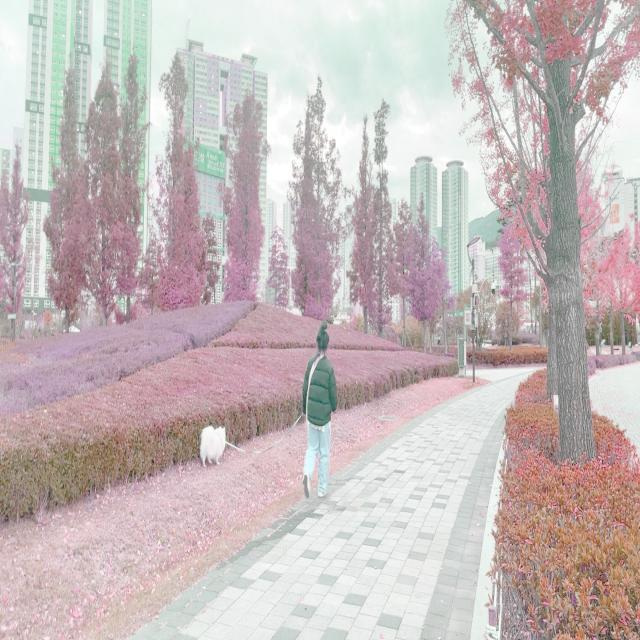Leashed_Dog: (200, 411, 318, 468)
